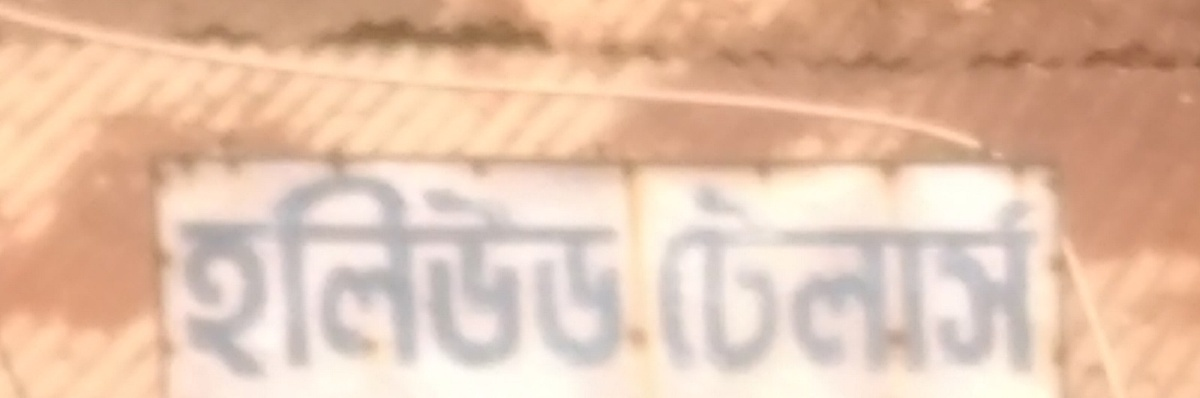text: (177, 170, 192, 388), (193, 170, 208, 388), (209, 170, 224, 388), (225, 170, 240, 388), (241, 170, 256, 388), (257, 170, 272, 388), (273, 170, 288, 388), (289, 170, 304, 388), (305, 170, 320, 388), (321, 170, 336, 388), (337, 170, 352, 388), (353, 170, 368, 388), (369, 170, 384, 388), (385, 170, 400, 388), (401, 170, 416, 388), (417, 170, 432, 388), (433, 170, 448, 388), (449, 170, 464, 388), (465, 170, 480, 388), (481, 170, 496, 388), (497, 170, 512, 388), (513, 170, 528, 388), (529, 170, 544, 388), (545, 170, 560, 388), (561, 170, 576, 388), (577, 170, 592, 388), (593, 170, 608, 388), (609, 170, 624, 388), (673, 183, 688, 383), (689, 183, 704, 383), (705, 183, 720, 383), (721, 183, 736, 383), (737, 183, 752, 383), (753, 183, 768, 383), (769, 183, 784, 383), (785, 183, 800, 383), (801, 183, 816, 383), (817, 183, 832, 383), (833, 183, 848, 383), (849, 183, 864, 383), (865, 183, 880, 383), (881, 183, 896, 383), (897, 183, 912, 383), (913, 183, 928, 383), (929, 183, 944, 383), (945, 183, 960, 383), (961, 183, 976, 383), (977, 183, 992, 383), (993, 183, 1008, 383), (1009, 183, 1024, 383), (1025, 183, 1040, 383), (659, 183, 672, 383), (168, 170, 176, 388), (1041, 183, 1049, 383), (625, 170, 631, 388)
